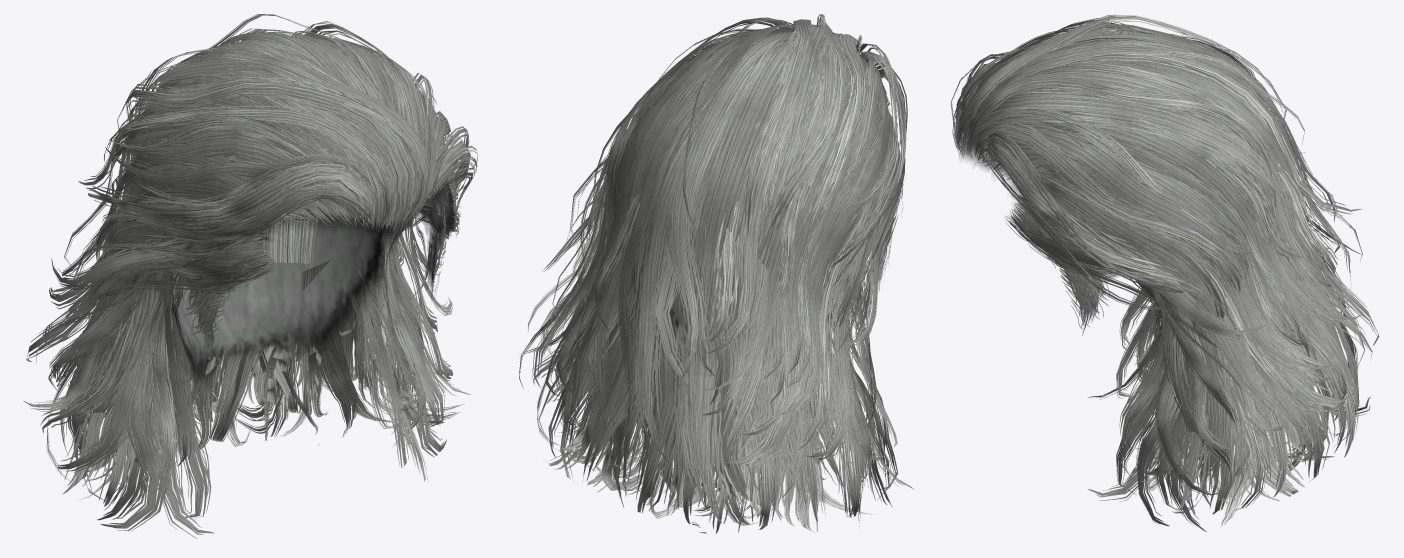
Rendered from hair004.glb.
3 views of the same model, side by side, from view 1: azimuth 30°, elevation 25°; view 2: azimuth 150°, elevation 25°; view 3: azimuth 270°, elevation 25° (orthographic). The views are drawn at different scales.
Parts seen in each view (by area): view 1: hair, scalp; view 2: hair, scalp; view 3: hair, scalp.
Boxes of the visible parts, x1,y1,x2,y2 form: hair: [23, 14, 477, 538]; scalp: [146, 39, 454, 382]; hair: [519, 14, 913, 533]; scalp: [620, 47, 878, 328]; hair: [950, 15, 1379, 531]; scalp: [960, 44, 1282, 338].
Size of the model in its own units: 0.2228 by 0.2428 by 0.2171.
2 materials, 2 textured.
